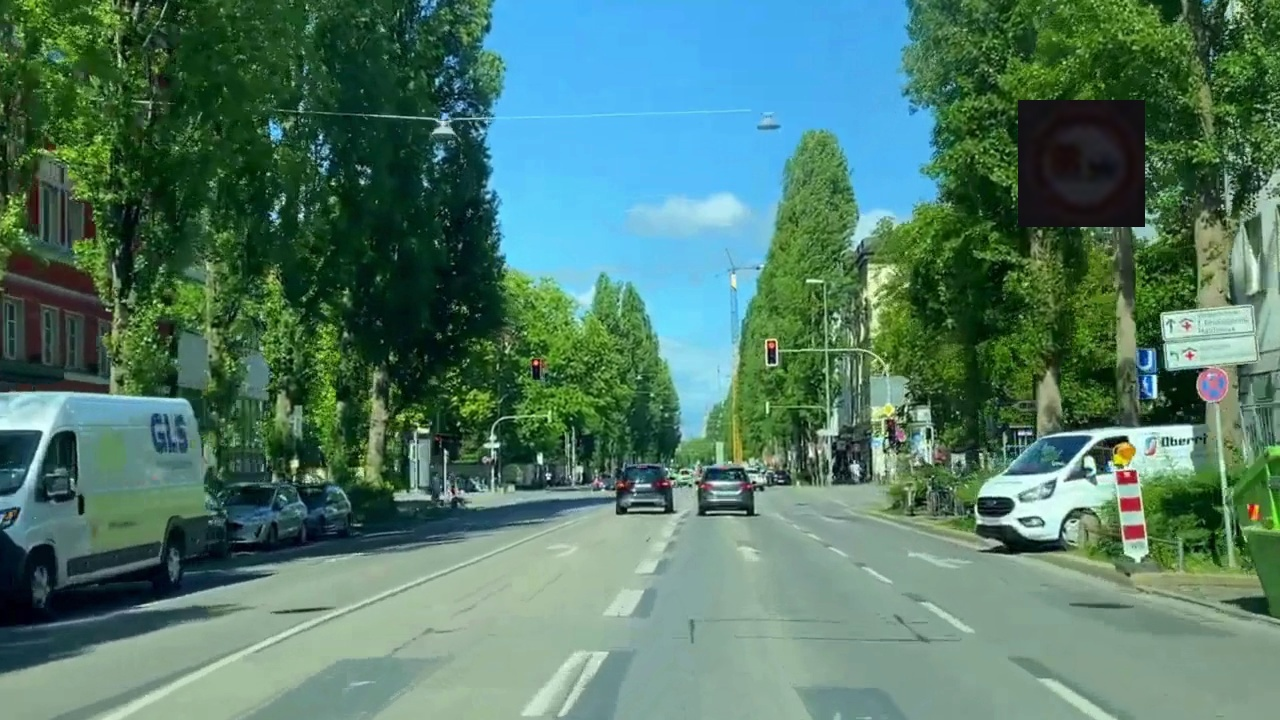No pass >3.5t: (1018, 100, 1145, 227)
